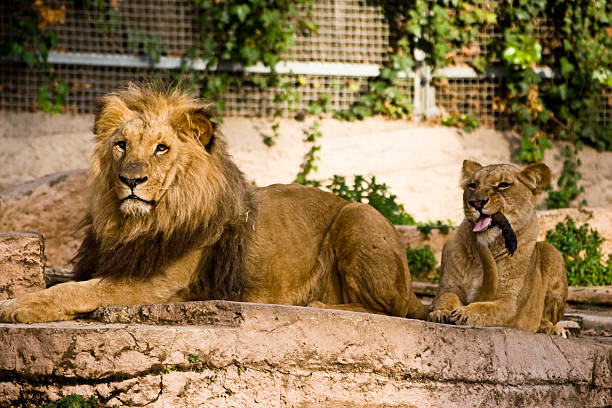lion: (73, 73, 257, 291)
